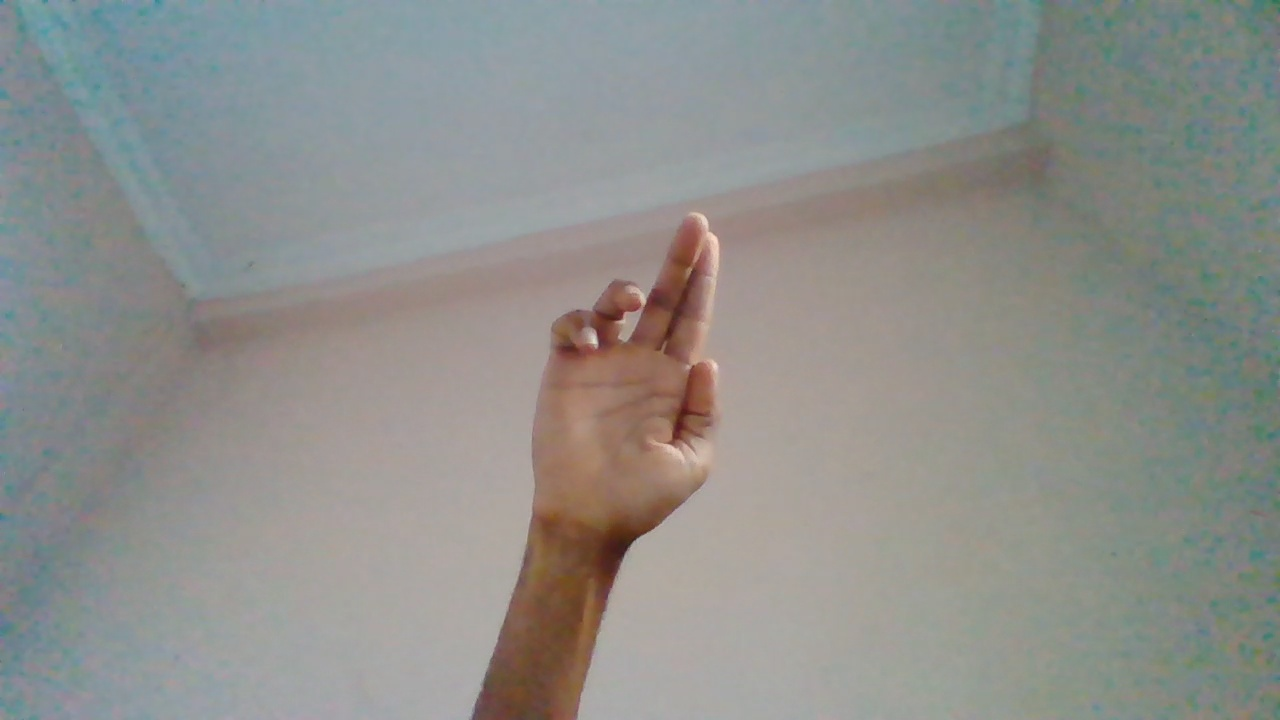gne: (521, 210, 719, 617)
